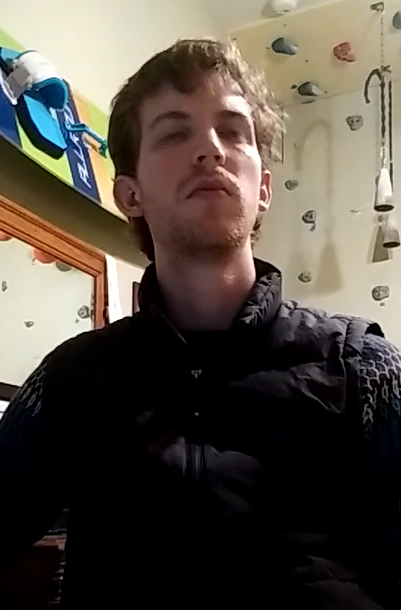Half Asleep: (145, 111, 254, 155)
